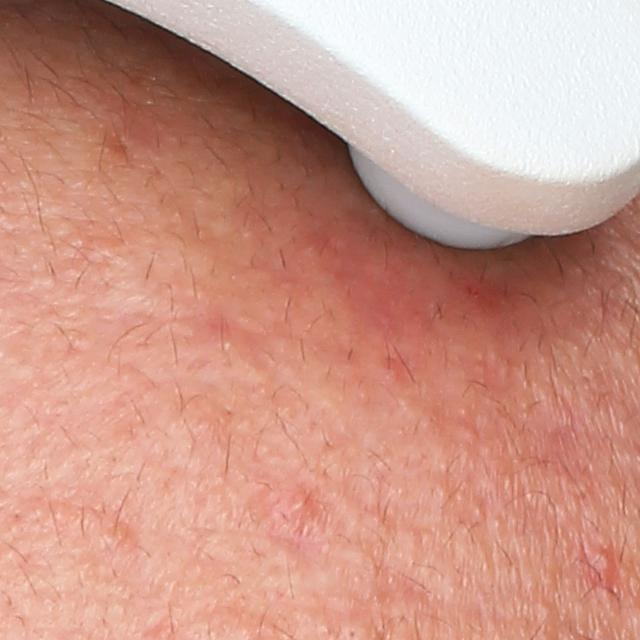comedo: (537, 601, 556, 623)
papule: (582, 549, 620, 593)
